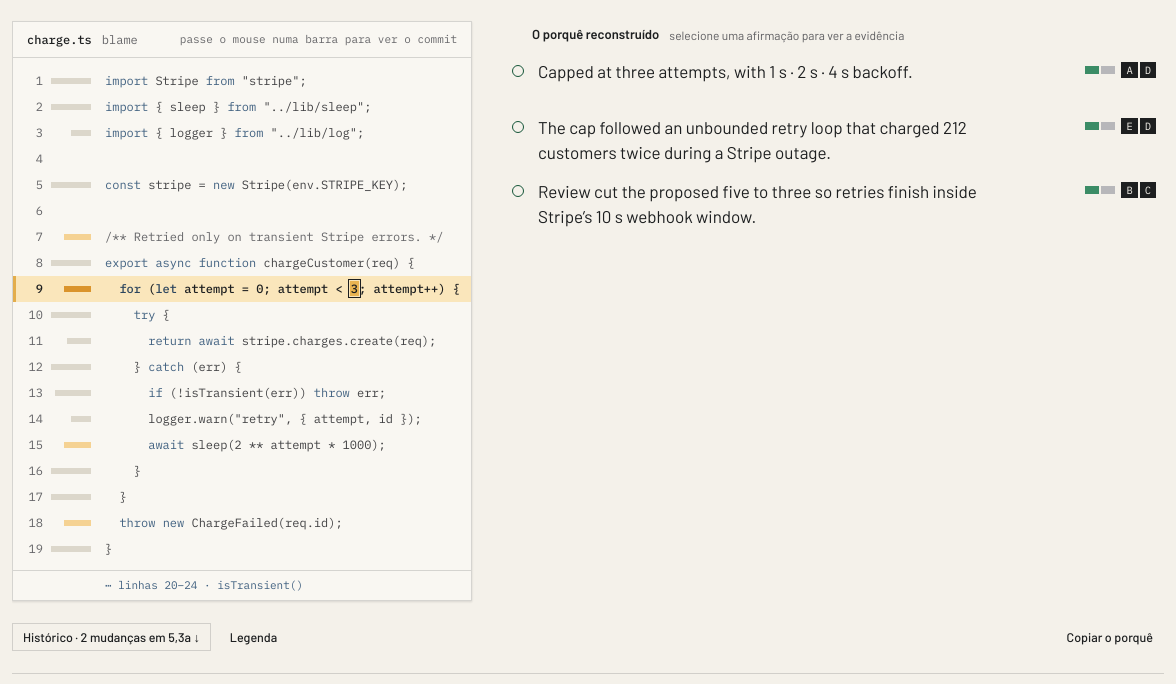
Test case: the history in Portuguese › says which clause it is tracing and leads back to it
The width and height of the screenshot is (1176, 684).
Click the 4th button.
click(834, 139)  # box x1=504 y1=109 x2=1164 y2=169
(page scrolled)
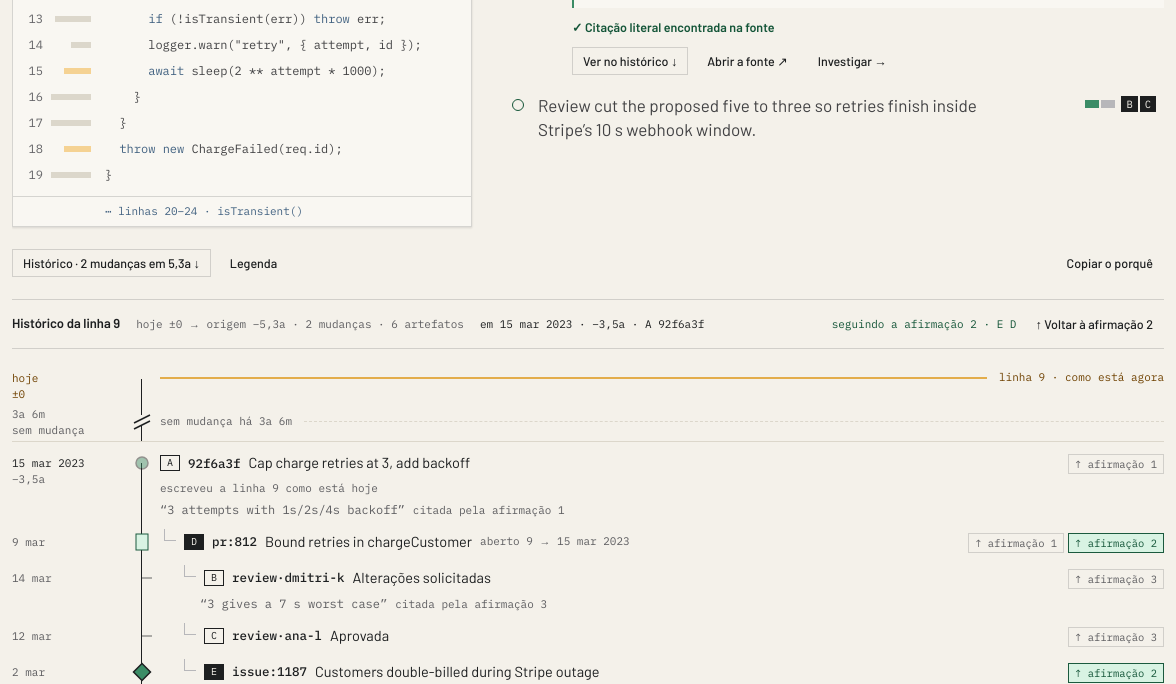
Expected: the button "↑ Voltar à afirmação 2" is shown, x1=1024 y1=310 x2=1164 y2=338
